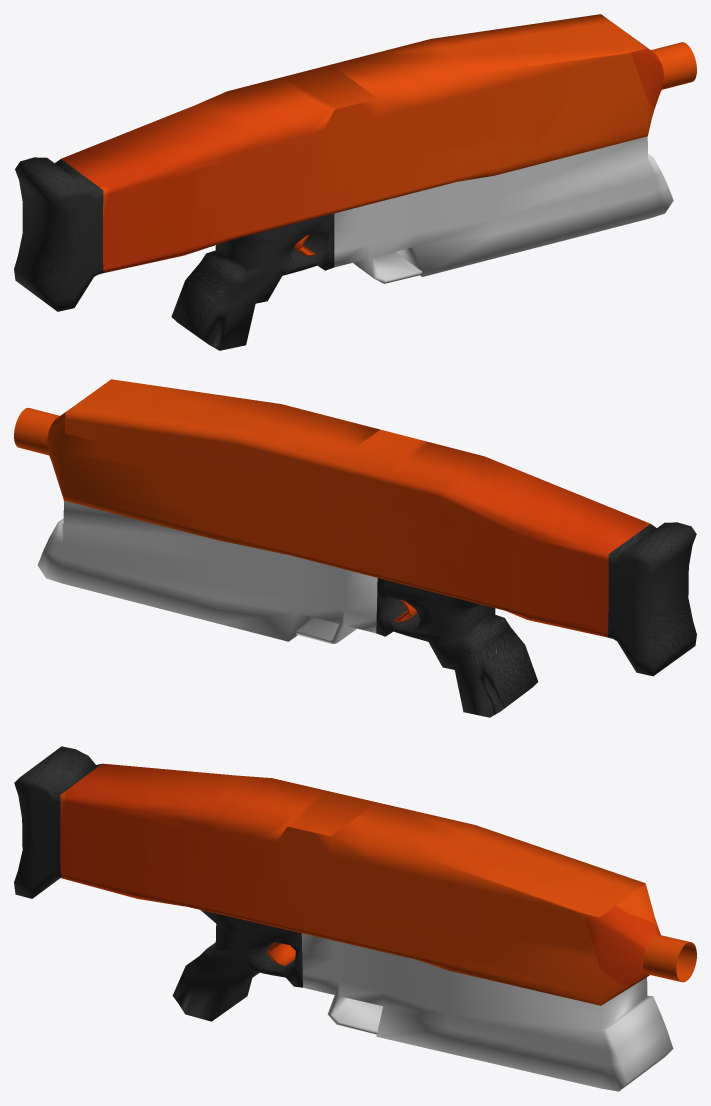
The model's file is NERF.fbx.
The picture shows the model from 3 angles, top to bottom: view 1: azimuth 30°, elevation 25°; view 2: azimuth 150°, elevation 25°; view 3: azimuth 330°, elevation 25°; orthographic projection.
Parts seen in each view (by area): view 1: Cylinder.005; view 2: Cylinder.005; view 3: Cylinder.005.
Part boxes in pixels (<box>): Cylinder.005: <box>14,14,696,350</box>; Cylinder.005: <box>14,379,696,717</box>; Cylinder.005: <box>14,746,696,1091</box>.
Size of the model in its own units: 985 by 322 by 123.
